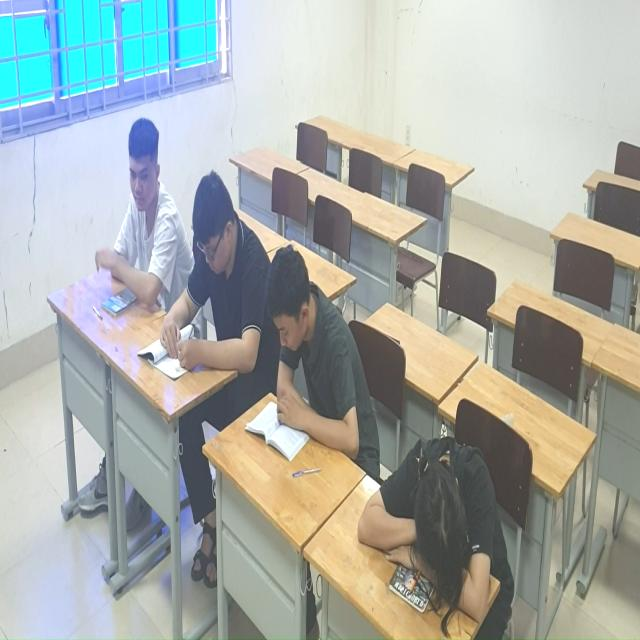raise_hand: (90, 117, 181, 353)
read: (245, 234, 375, 483), (138, 178, 270, 379)
sleep: (356, 428, 532, 640)
